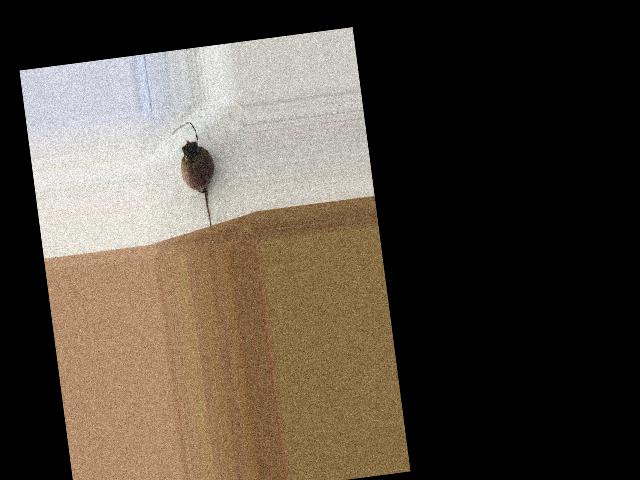beet: (171, 120, 222, 231)
